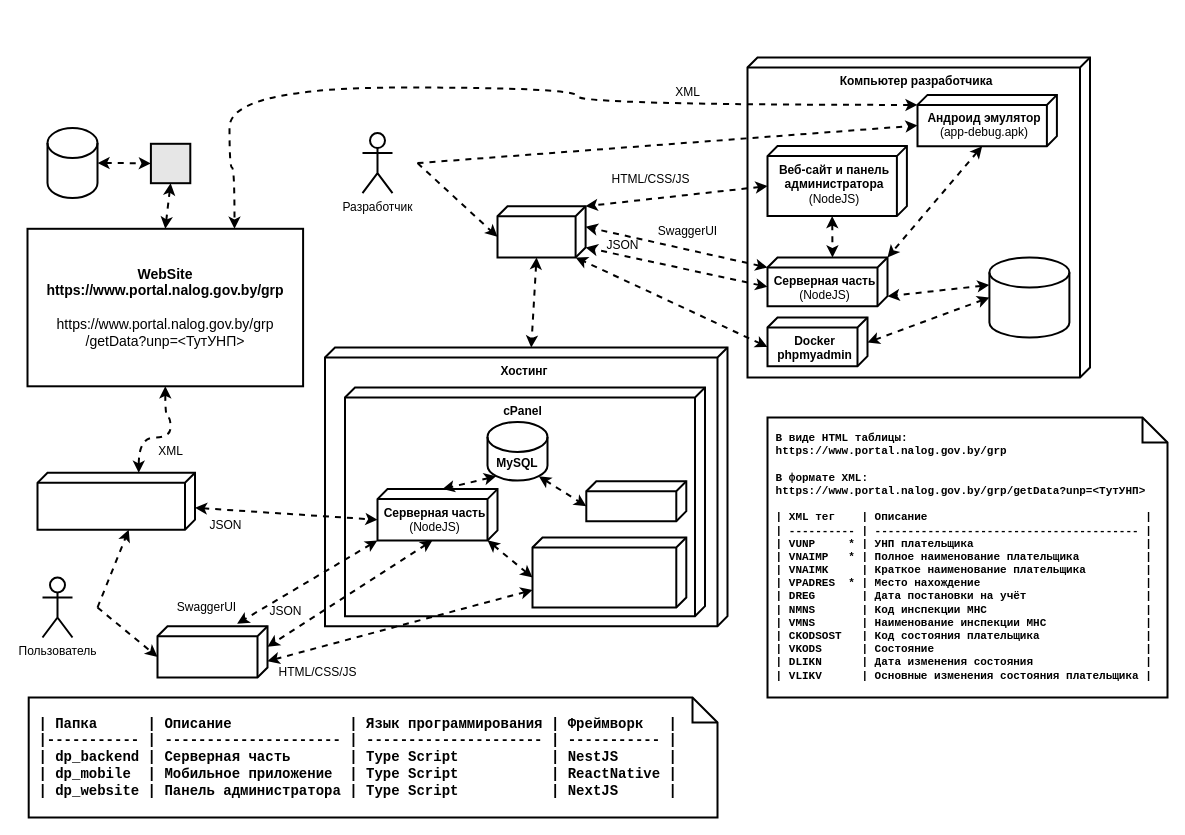
This 1185x835 diagram has some shape labels left out. The shapes that lost their labels are listed below. From the top down, each one's centre as x and y in pixels, then its label:
point 72,163: БД
point 541,231: Браузер index.html
point 1029,297: Docker MySQL
point 116,500: Android приложение (app-release.apk)
point 636,501: phpmyadmin
point 609,572: Веб-сайт и панель администратора (Apache)
point 212,651: Браузер (index.html)
